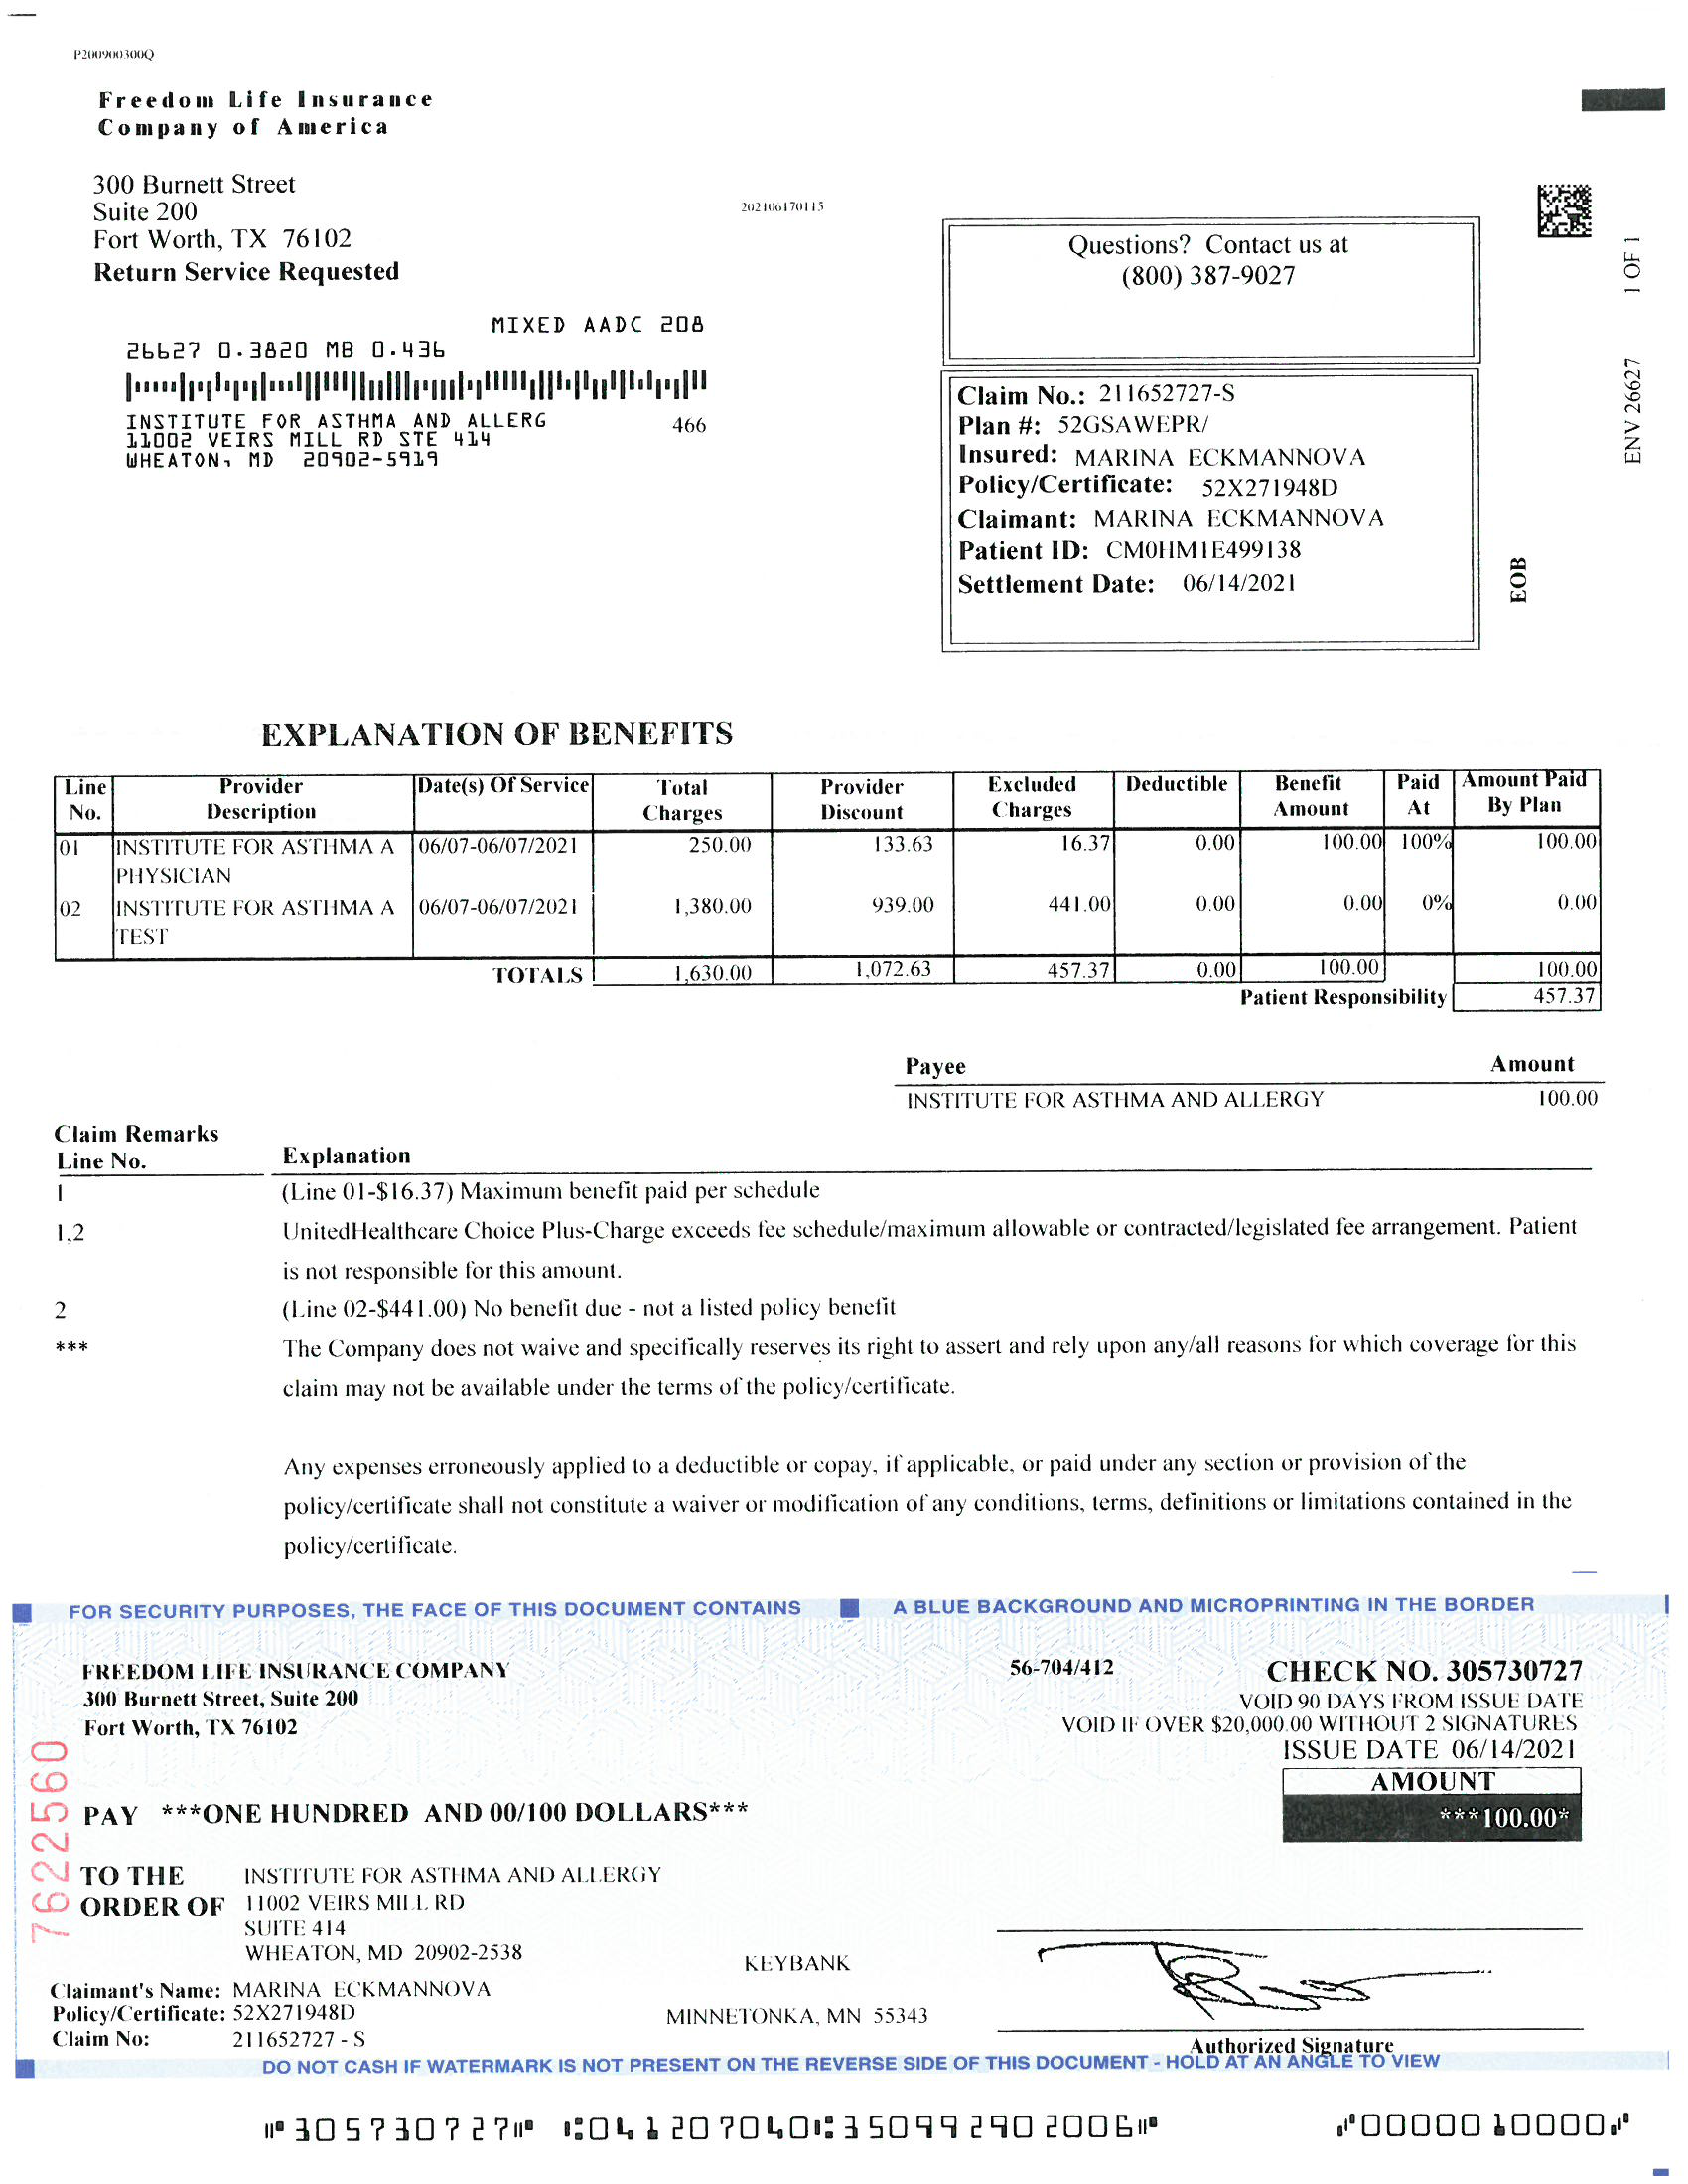data: (940, 367, 1479, 651)
table: (46, 766, 1606, 1010)
